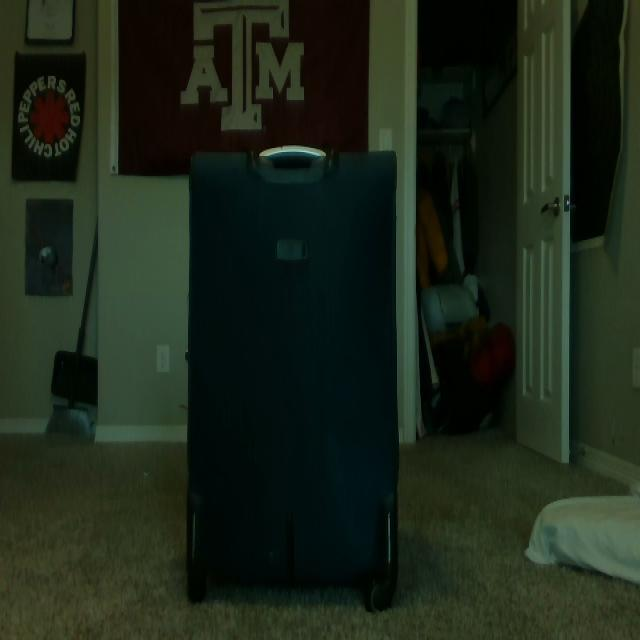suitcase: (184, 144, 402, 613)
